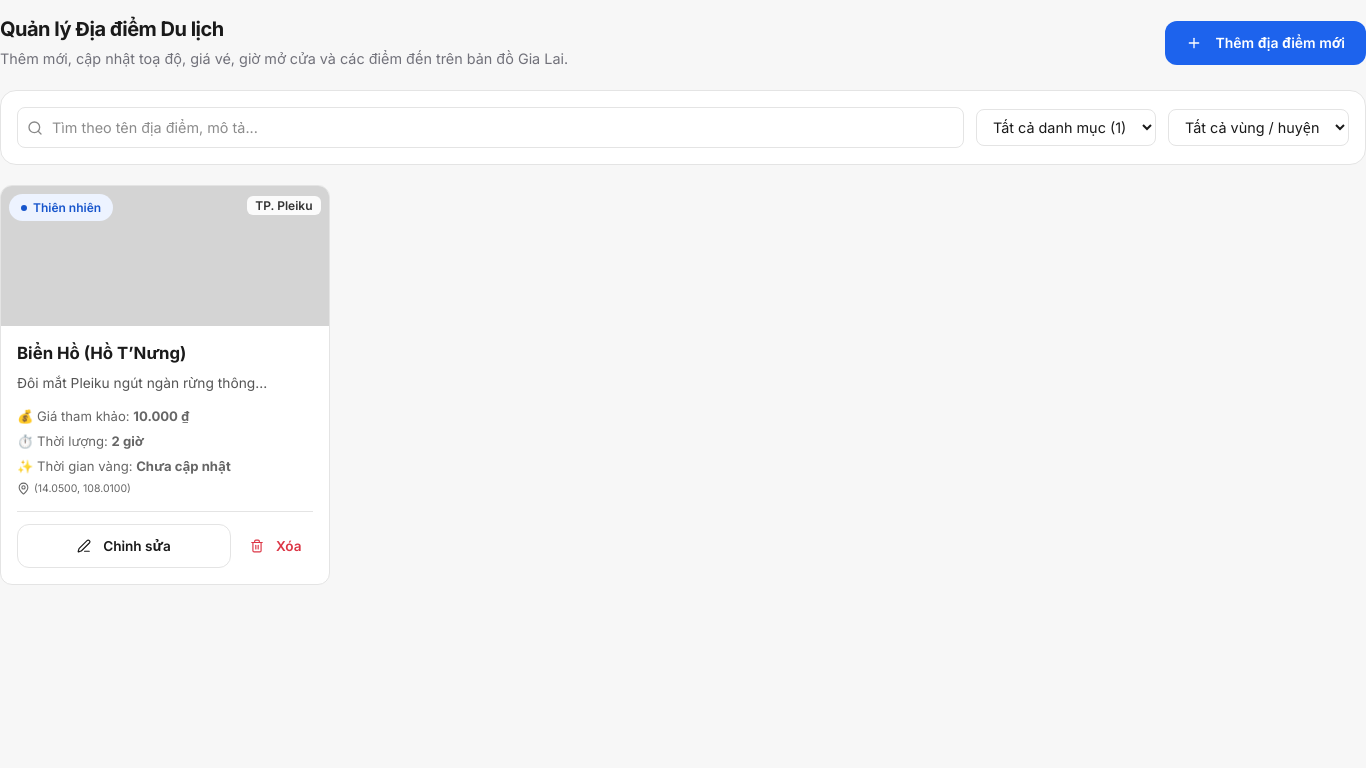
Admin Places CRUD (AdminPlacesManager) › mở modal tạo mới địa điểm và gửi dữ liệu thành công
Click the button "Thêm địa điểm mới".
click(1265, 43)  # box [1164,21,1365,65]
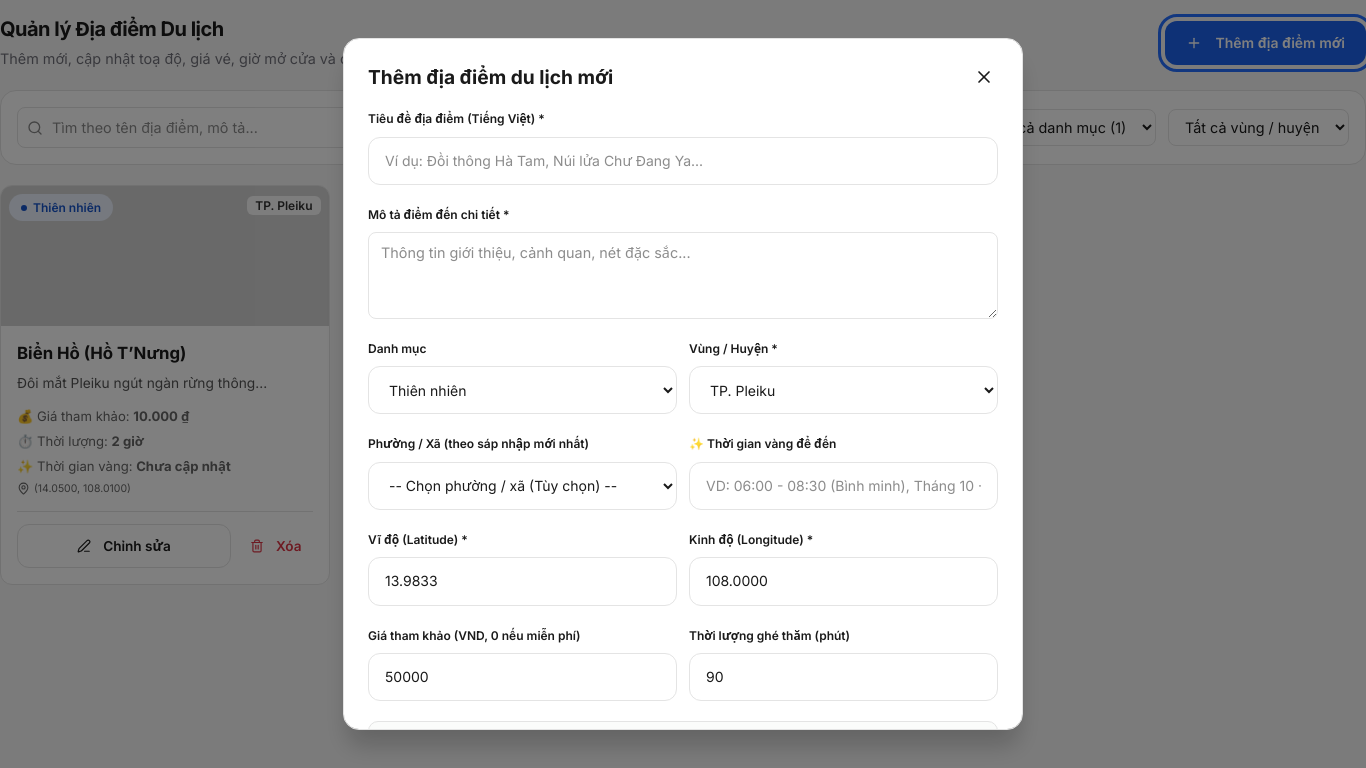
Expected: the heading "Thêm địa điểm du lịch mới" is shown, [368,64,613,91]
Type "Thác Phú Cường" into the field labelled "Tiêu đề địa điểm (Tiếng Việt) *".
click(683, 161); type("Thác Phú Cường")  # box [368,137,998,185]
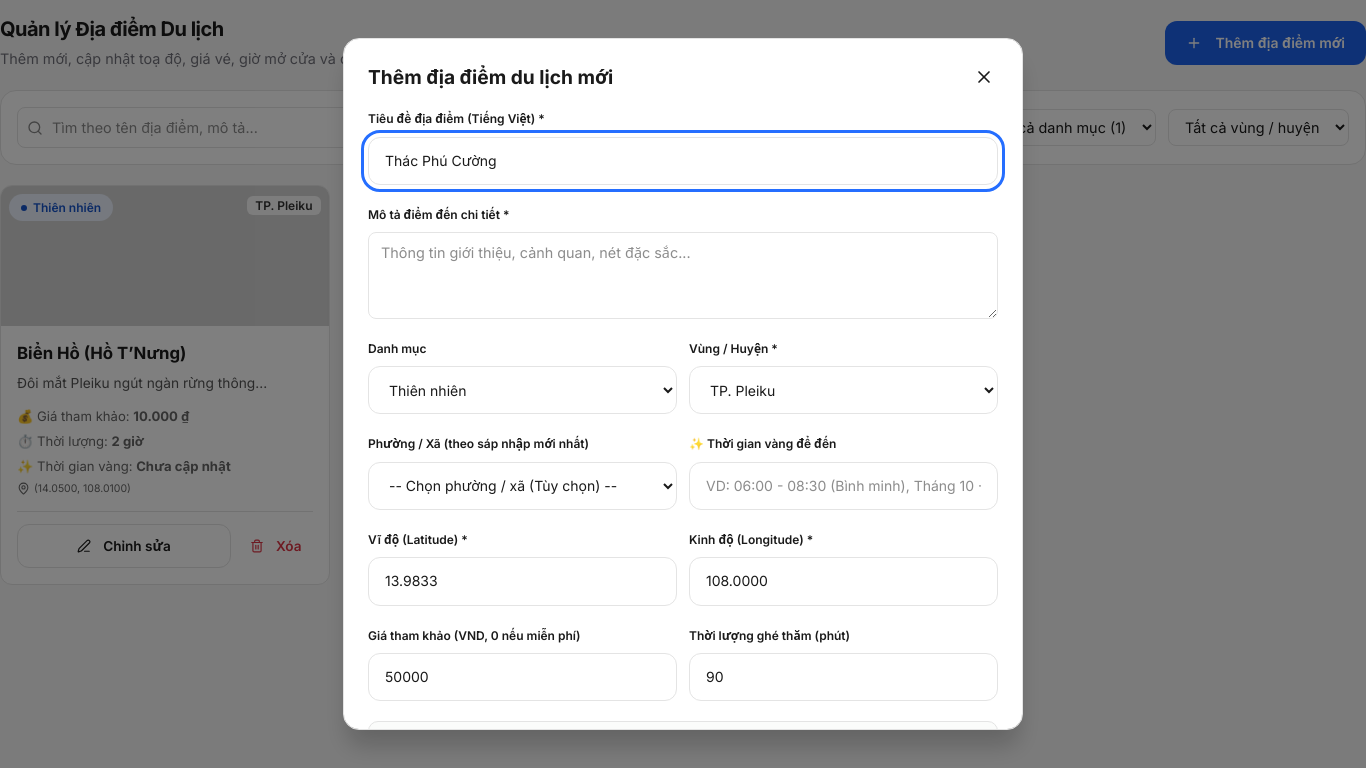
Type "Dải lụa trắng giữa đại ngàn Chư Sê..." into the text box labelled "Mô tả điểm đến chi tiết *".
click(683, 276); type("Dải lụa trắng giữa đại ngàn Chư Sê...")  # box [368,232,998,319]
(page scrolled)
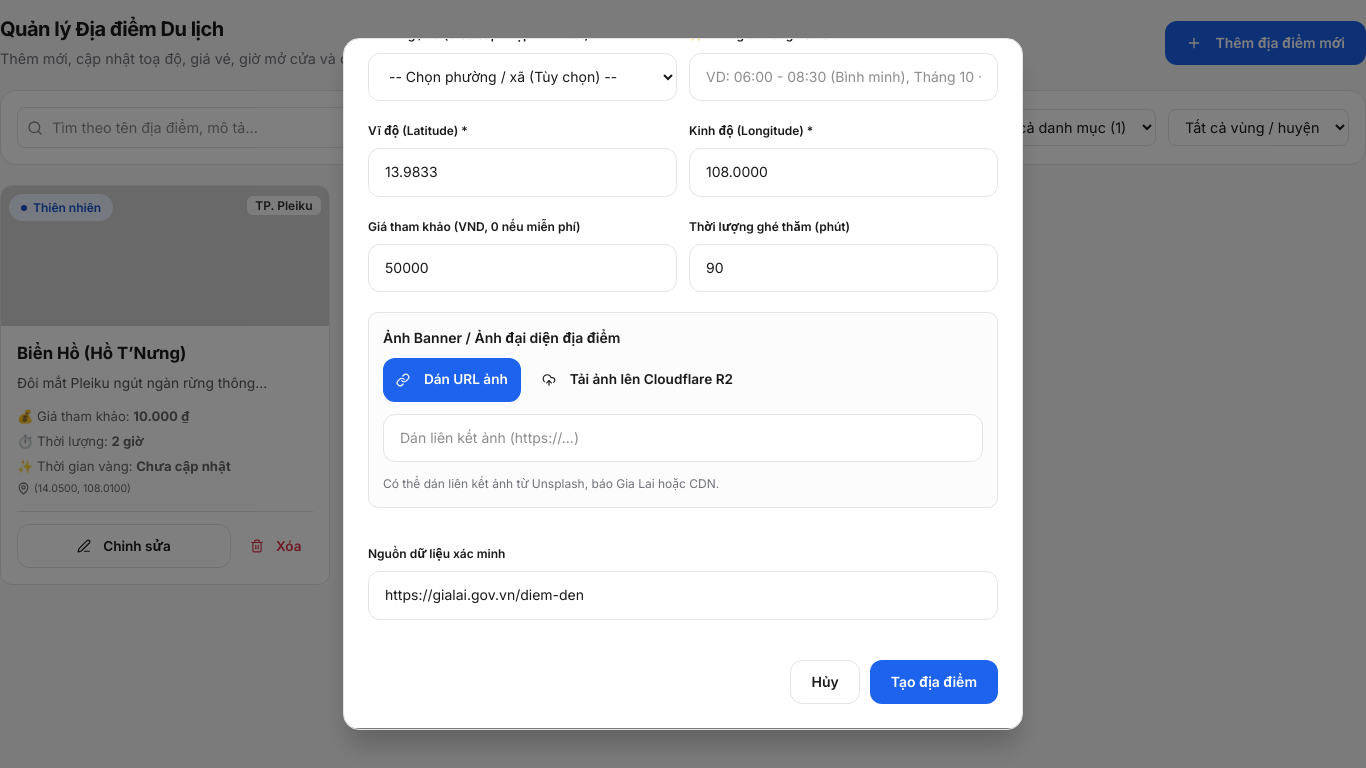
Click the button "Tạo địa điểm".
click(934, 682)  # box [870,660,998,704]
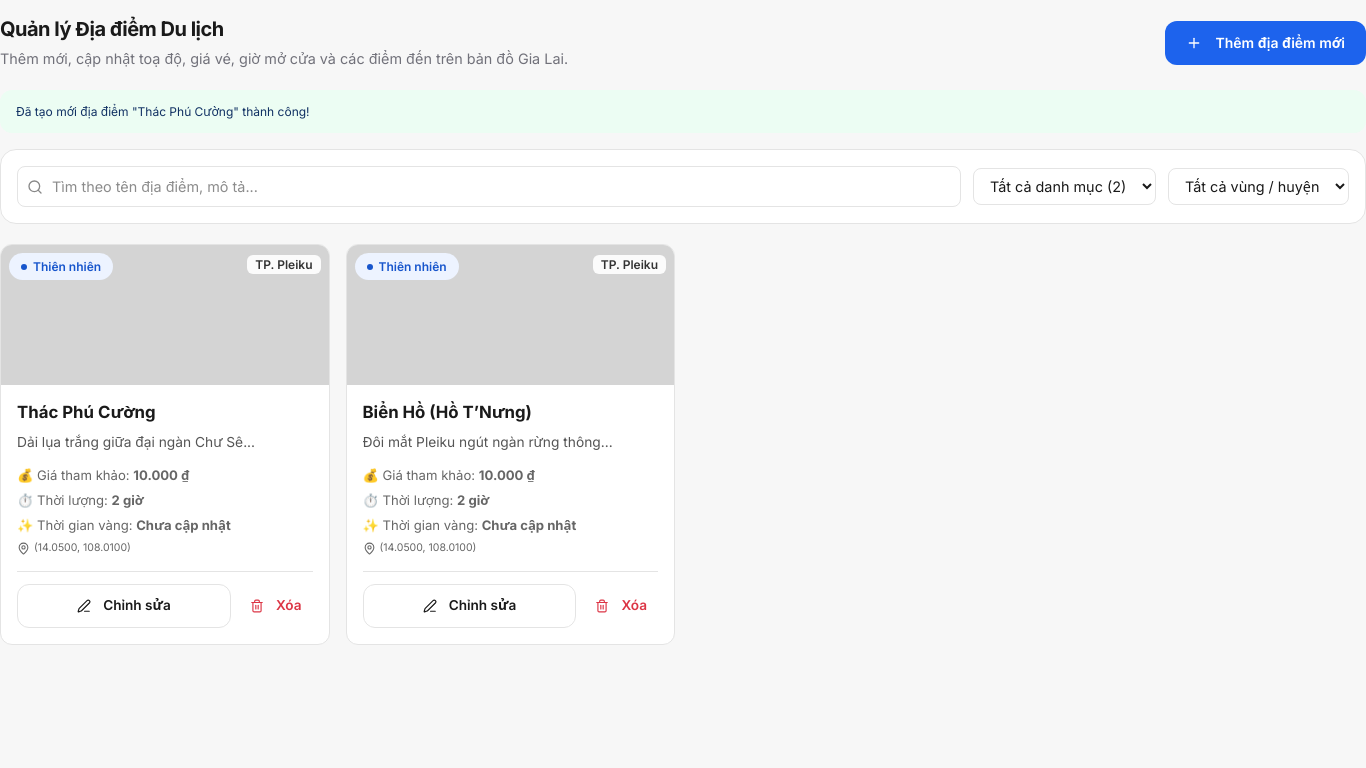
Expected: the text "Đã tạo mới địa điểm \"Thác Phú Cường\" thành công!" is shown, [0,90,1365,133]
Expected: the heading "Thác Phú Cường" is shown, [17,402,156,422]
